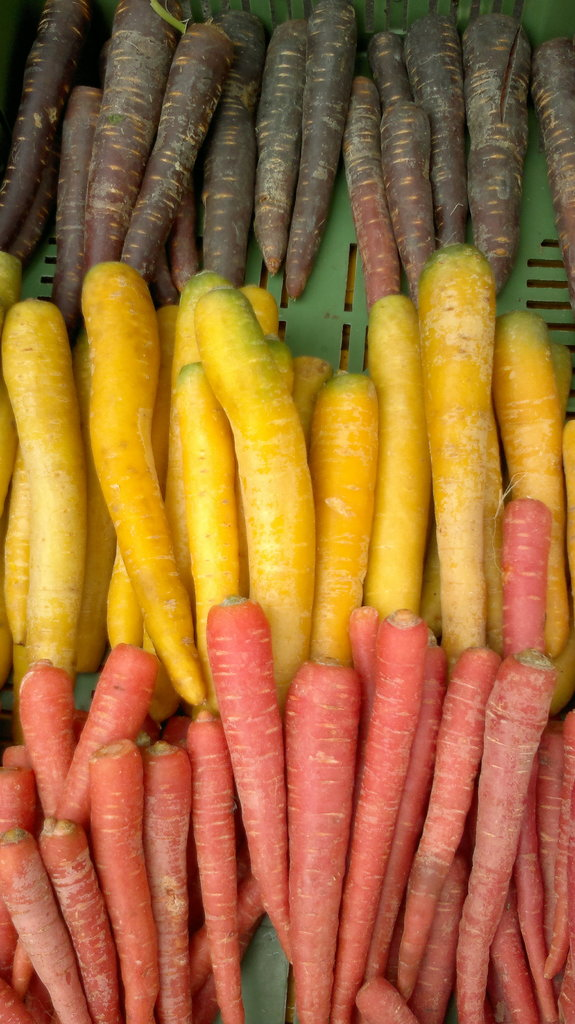Carrot: (0, 0, 575, 1023)
